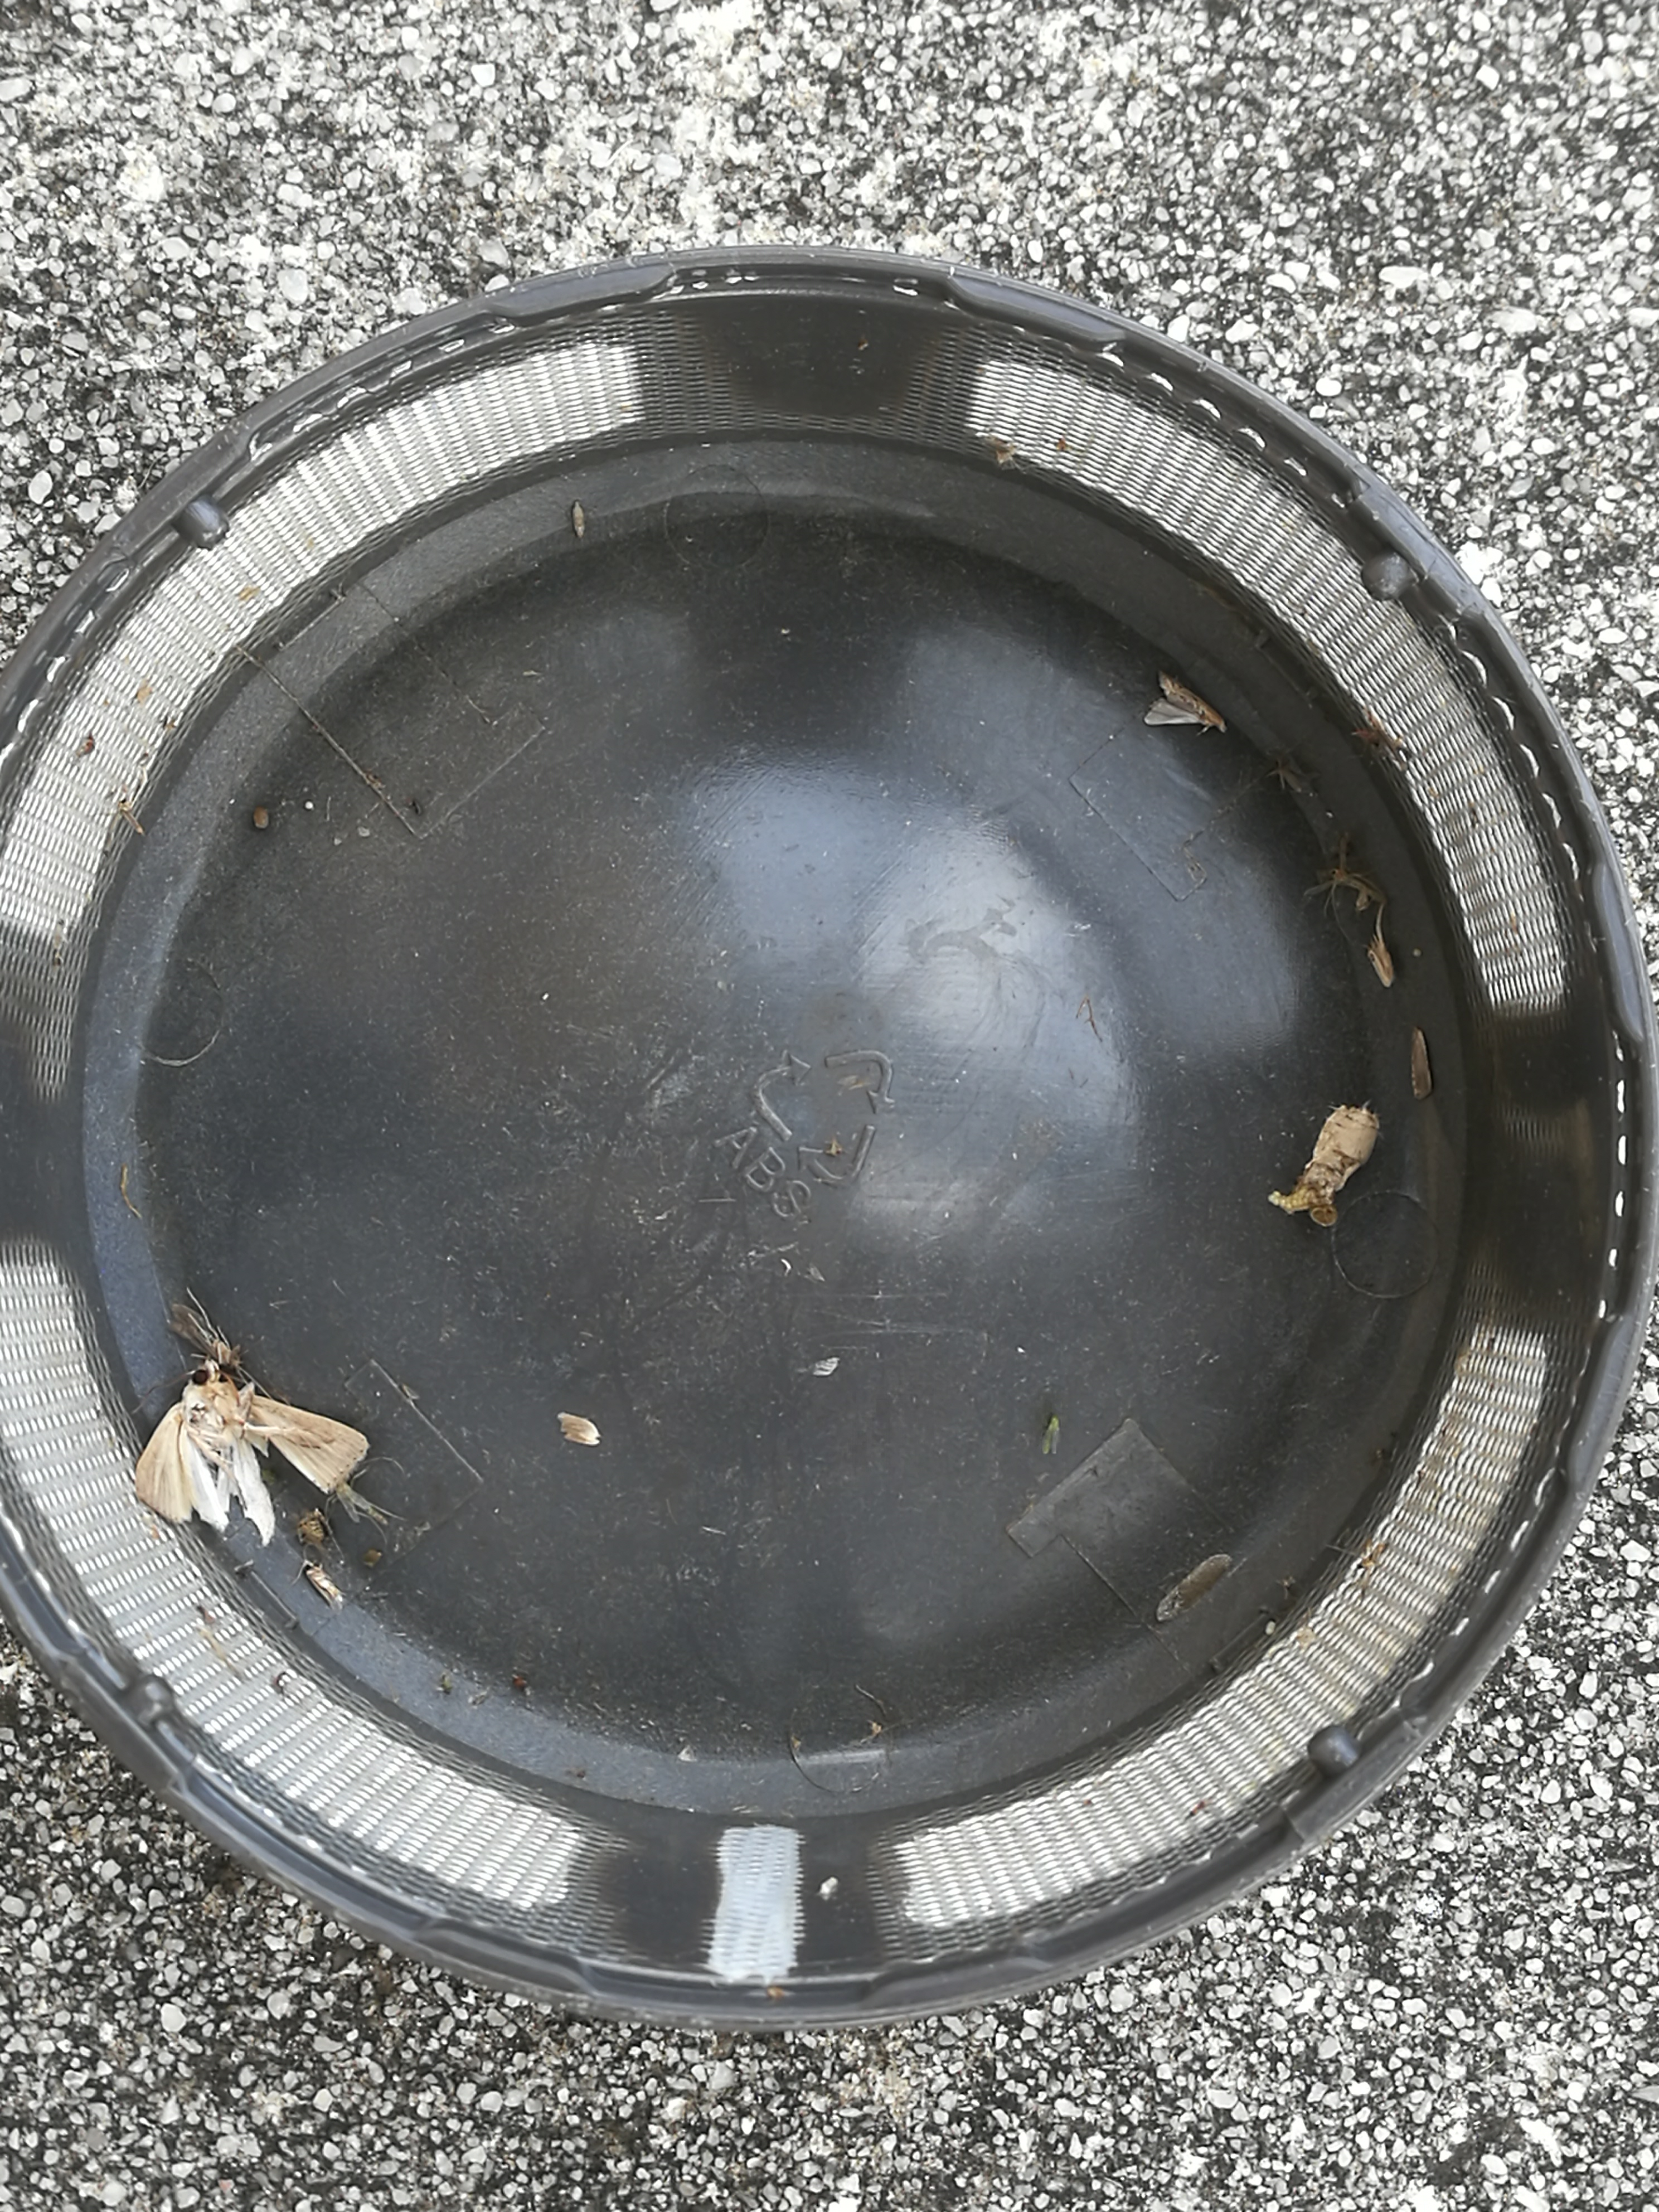mosquito: (1328, 866, 1384, 902), (336, 1484, 385, 1524), (305, 1561, 342, 1609)
moth: (136, 1357, 369, 1545), (1145, 672, 1225, 733)
